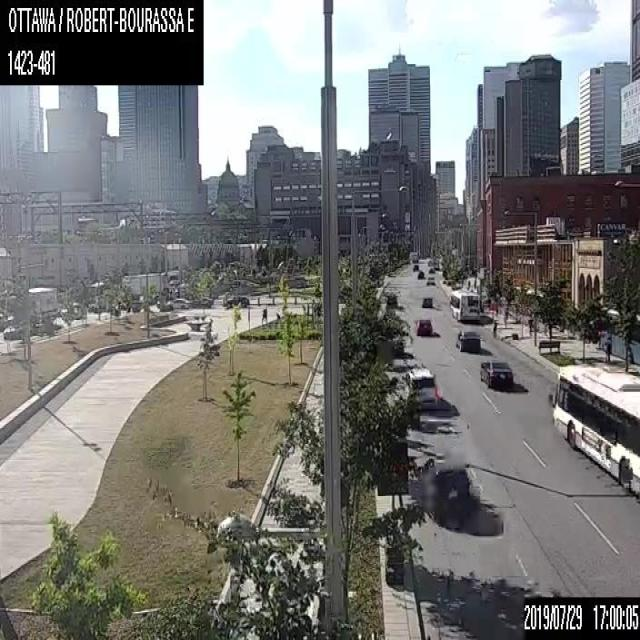bus: (550, 358, 639, 498), (448, 288, 479, 321)
construction: (377, 440, 408, 582)
pedestrian: (605, 341, 611, 364), (261, 305, 267, 323), (492, 317, 497, 338)
vehicle: (423, 460, 472, 513), (402, 365, 438, 408), (478, 359, 513, 388), (454, 326, 481, 351), (413, 316, 432, 335), (223, 295, 249, 308), (166, 297, 189, 308), (191, 296, 213, 306), (385, 292, 396, 308), (421, 296, 433, 308), (425, 274, 435, 284), (417, 270, 424, 278), (427, 266, 434, 272), (412, 264, 418, 270)
